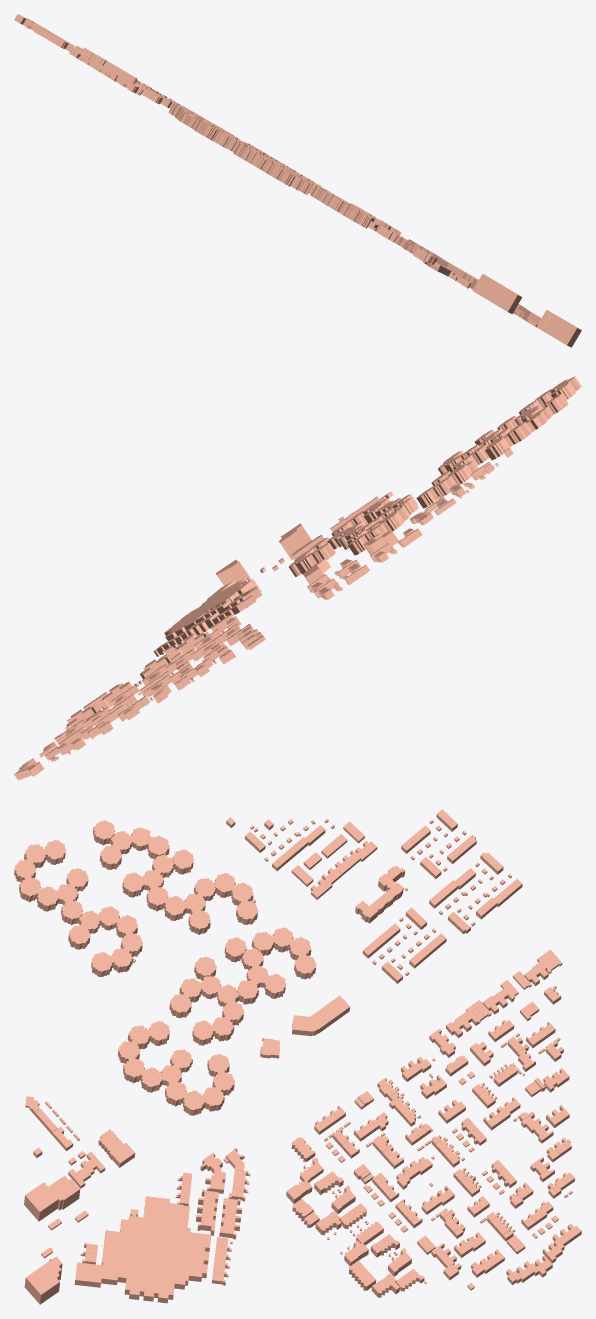
3 renders of one model, top to bottom at view 1: azimuth 30°, elevation 25°; view 2: azimuth 150°, elevation 25°; view 3: azimuth 270°, elevation 25°, orthographic. The views are drawn at different scales.
Bounding box in the file's own units: 526 × 384 × 636.
